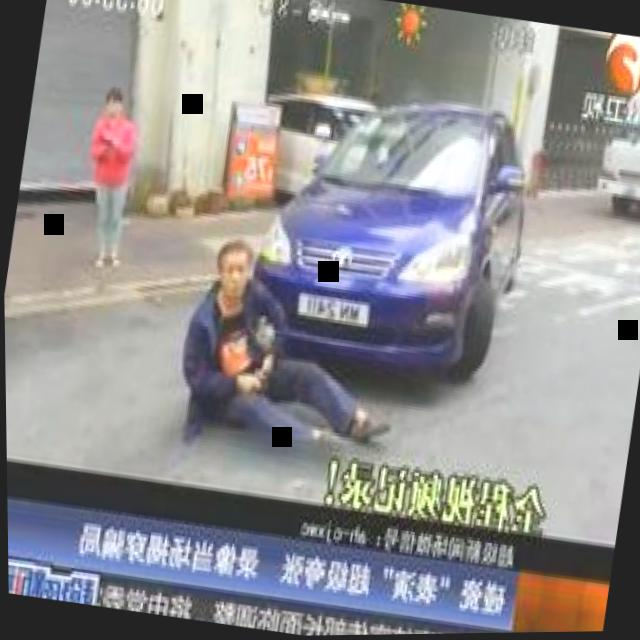Fall-Detected: (159, 216, 427, 458)
